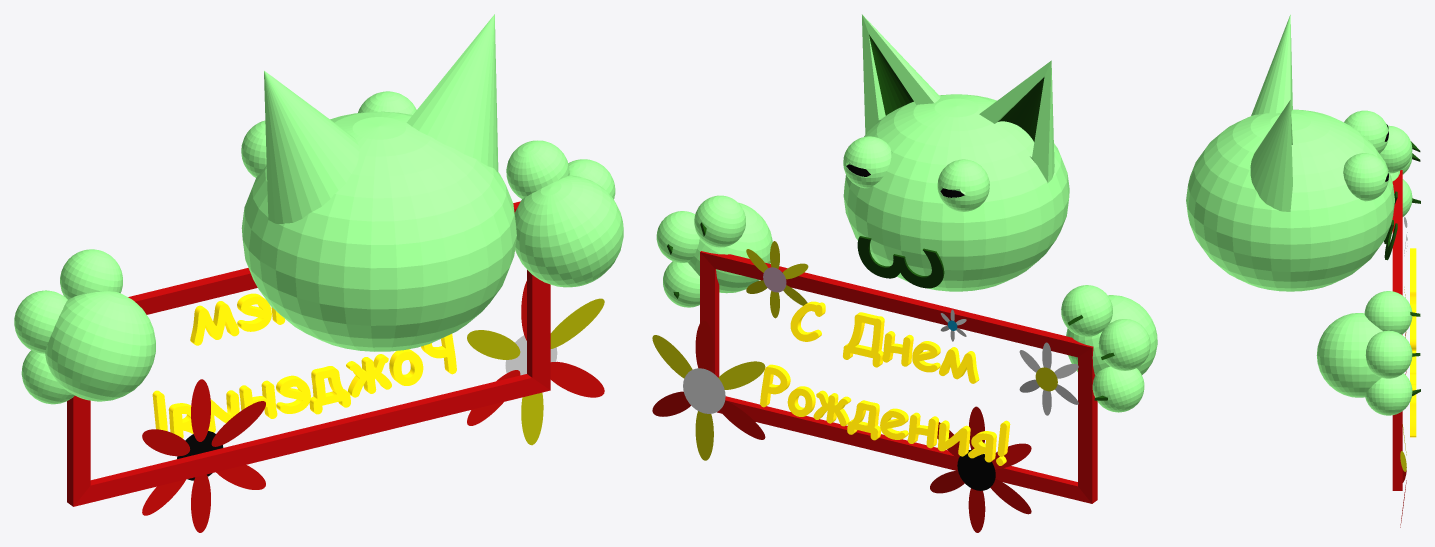
3 views of the same model, side by side, from view 1: azimuth 30°, elevation 25°; view 2: azimuth 150°, elevation 25°; view 3: azimuth 270°, elevation 25° (orthographic). The views are drawn at different scales.
Visible parts, largest first — view 1: Sphere, Sphere.002, Cube, Cone, Text.001, Sphere.003, Sphere.004, Circle.002, Sphere.001, Circle.013, Circle.014, Circle.003 (+3 smaller); view 2: Sphere, Cube, Text.001, Cone, Sphere.002, Sphere.003, Sphere.001, Sphere.004, Sphere.005, Text, Circle.003, Circle.001 (+6 smaller); view 3: Sphere, Cone, Sphere.002, Sphere.001, Sphere.003, Cube, Sphere.004, Sphere.005, Text.001, Text.
Part boxes in pixels (left/top/right/bottom): Sphere: left=241, top=111, right=516, bottom=351; Sphere.002: left=45, top=175, right=623, bottom=401; Cube: left=67, top=201, right=550, bottom=506; Cone: left=264, top=14, right=498, bottom=223; Text.001: left=152, top=293, right=456, bottom=438; Sphere.003: left=60, top=140, right=569, bottom=299; Sphere.004: left=14, top=159, right=615, bottom=353; Circle.002: left=550, top=298, right=604, bottom=397; Sphere.001: left=241, top=91, right=416, bottom=177; Circle.013: left=191, top=379, right=210, bottom=532; Circle.014: left=211, top=401, right=265, bottom=489; Circle.003: left=467, top=330, right=520, bottom=425; Sphere: left=843, top=94, right=1069, bottom=291; Cube: left=700, top=251, right=1097, bottom=503; Text.001: left=760, top=301, right=1010, bottom=465; Cone: left=862, top=14, right=1054, bottom=182; Sphere.002: left=688, top=202, right=1157, bottom=374; Sphere.003: left=694, top=195, right=1112, bottom=336; Sphere.001: left=843, top=136, right=989, bottom=211; Sphere.004: left=656, top=211, right=1150, bottom=370; Sphere.005: left=663, top=261, right=1144, bottom=412; Text: left=857, top=236, right=944, bottom=288; Circle.003: left=718, top=361, right=765, bottom=439; Circle.001: left=695, top=320, right=713, bottom=460; Sphere: left=1186, top=109, right=1394, bottom=291; Cone: left=1250, top=14, right=1292, bottom=211; Sphere.002: left=1316, top=171, right=1399, bottom=397; Sphere.001: left=1343, top=110, right=1388, bottom=201; Sphere.003: left=1364, top=125, right=1412, bottom=334; Cube: left=1392, top=170, right=1402, bottom=490; Sphere.004: left=1365, top=153, right=1412, bottom=378; Sphere.005: left=1365, top=179, right=1412, bottom=415; Text.001: left=1410, top=248, right=1416, bottom=437; Text: left=1384, top=191, right=1397, bottom=260.
Size of the model in its own units: 4.98 by 4.18 by 2.25.
